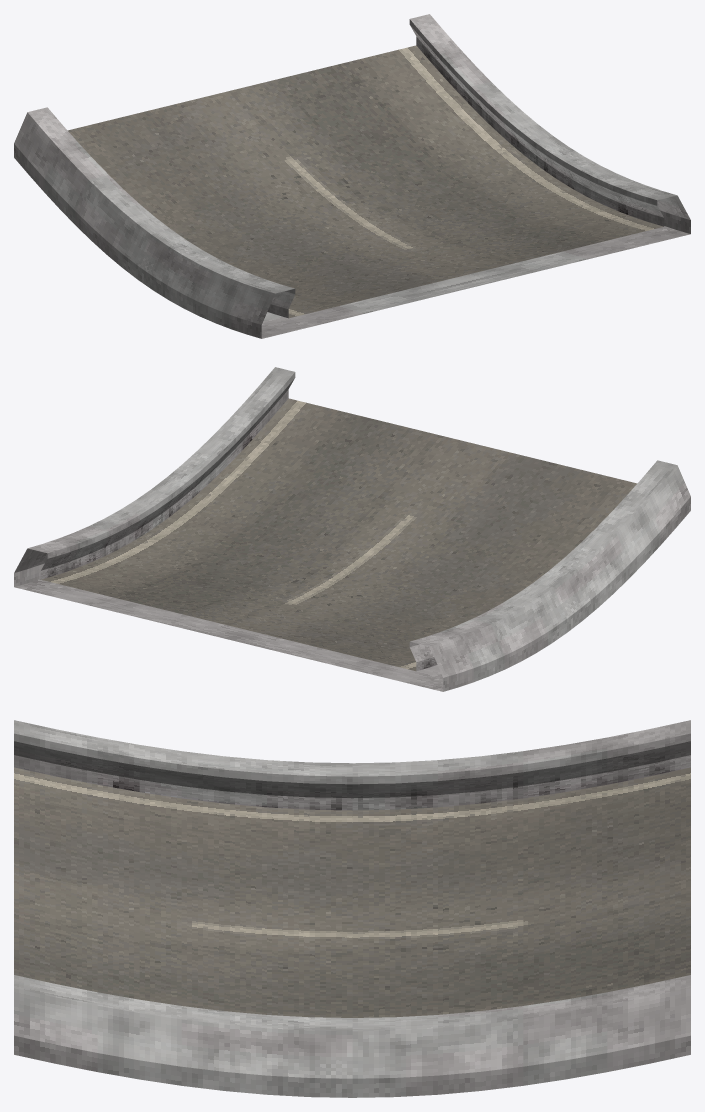
The model's file is straight1.glb.
The picture shows the model from 3 angles, top to bottom: view 1: azimuth 30°, elevation 25°; view 2: azimuth 150°, elevation 25°; view 3: azimuth 270°, elevation 25°; orthographic projection. The views are drawn at different scales.
Parts seen in each view (by area): view 1: road-Straight-BiSlopeDown-BiSlopeUp-Even-Center-Size1; view 2: road-Straight-BiSlopeDown-BiSlopeUp-Even-Center-Size1; view 3: road-Straight-BiSlopeDown-BiSlopeUp-Even-Center-Size1.
Boxes of the visible parts, <box> form: road-Straight-BiSlopeDown-BiSlopeUp-Even-Center-Size1: <box>14,14,690,338</box>; road-Straight-BiSlopeDown-BiSlopeUp-Even-Center-Size1: <box>14,367,690,691</box>; road-Straight-BiSlopeDown-BiSlopeUp-Even-Center-Size1: <box>14,720,690,1097</box>.
Size of the model in its own units: 1 by 0.1641 by 1.
Materials: 2 (2 with a texture image).
